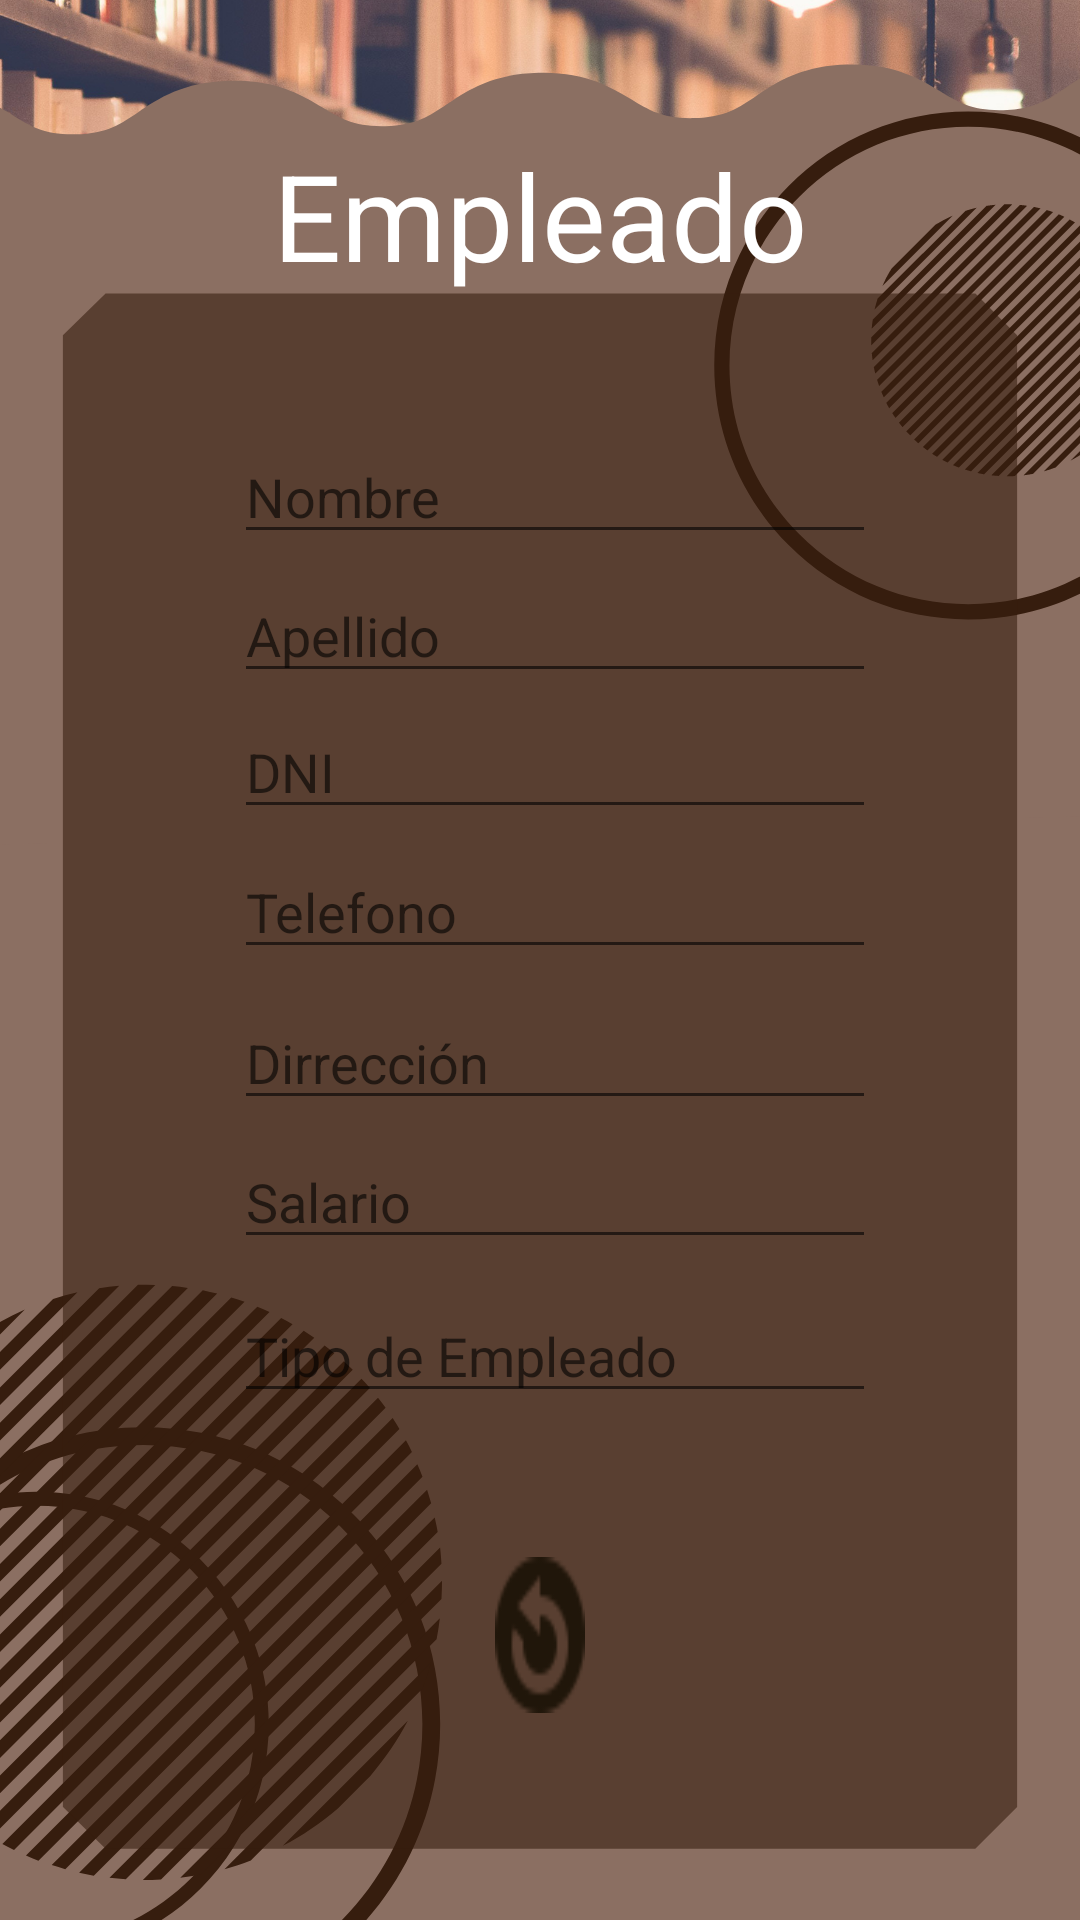

Where icons sit on this 1080w x 1920h app screen, as box=[x1, y1, x2, y2]:
actualizar: box=[495, 1557, 585, 1713]
